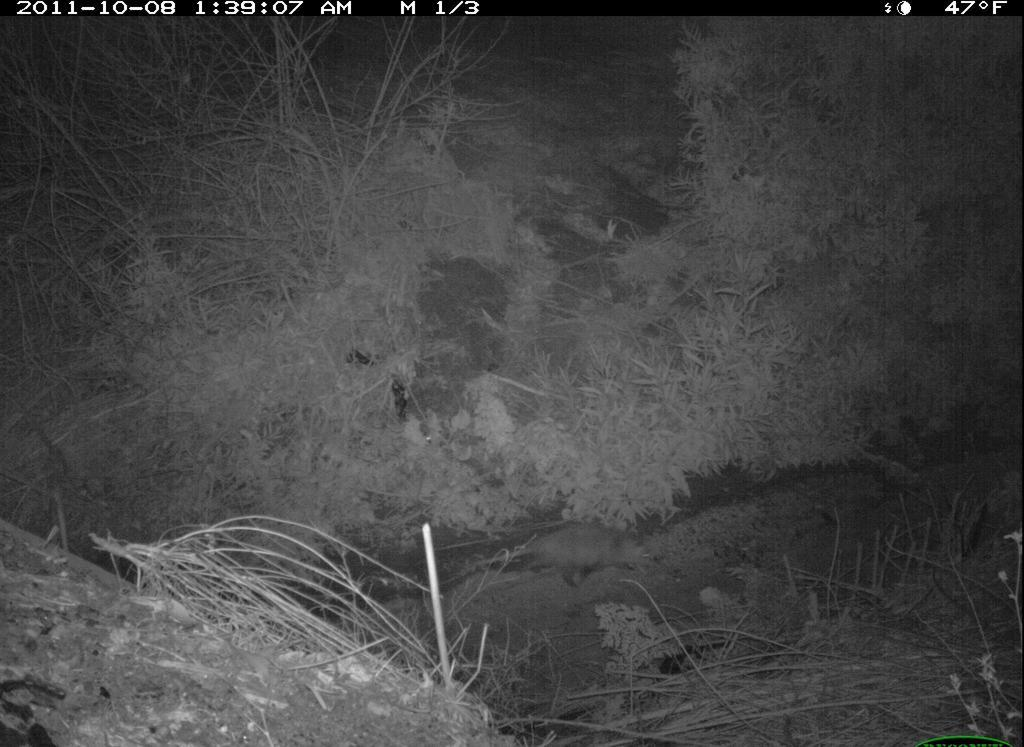opossum: (442, 518, 664, 602)
